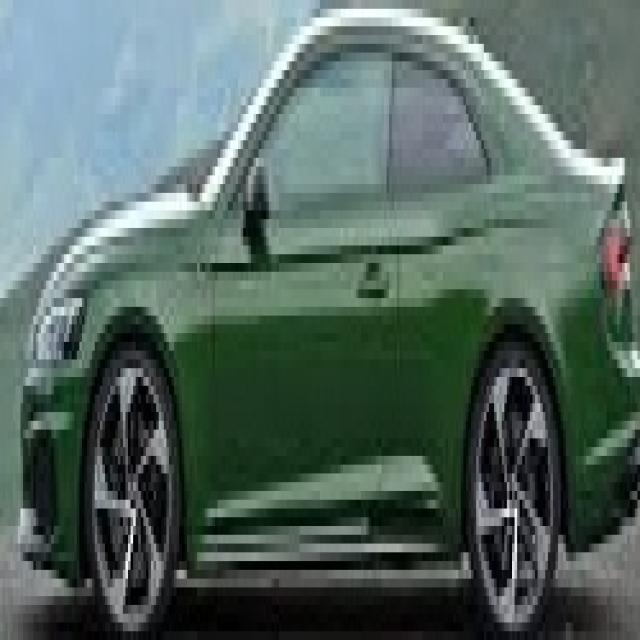green: (17, 1, 640, 640)
